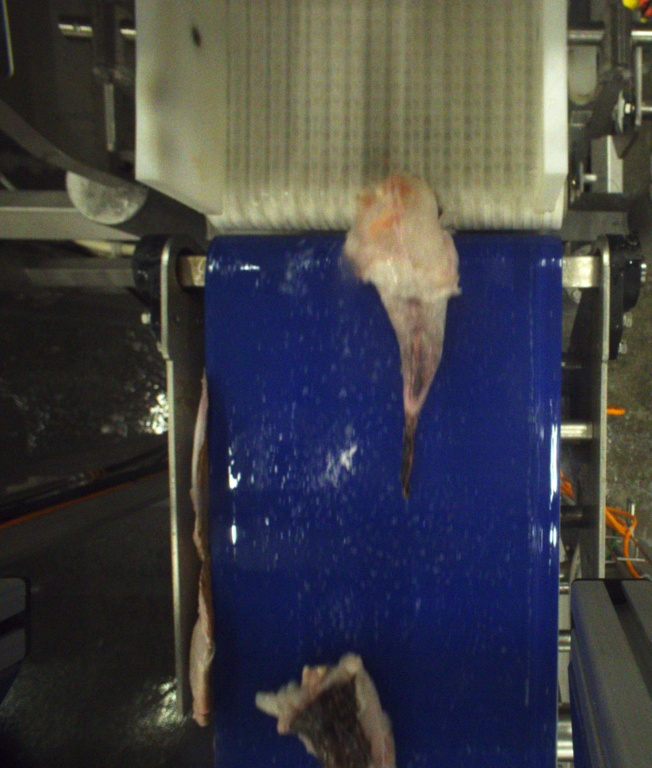ANF: (345, 168, 461, 512)
